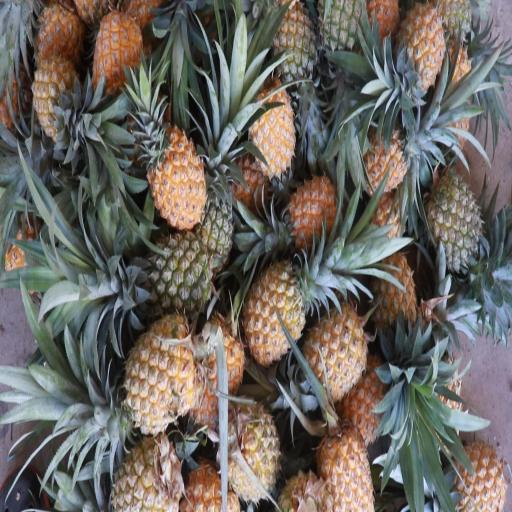------------------------------: (270, 0, 324, 89)
Pineapple - v8 v1: (120, 310, 198, 443), (301, 261, 375, 375), (237, 258, 308, 373), (144, 105, 208, 220), (185, 317, 245, 437), (214, 394, 277, 508), (315, 396, 375, 512), (111, 421, 184, 512), (243, 57, 295, 179), (90, 10, 150, 106), (275, 168, 340, 256), (24, 57, 83, 153), (364, 220, 422, 314), (354, 114, 408, 212), (393, 0, 451, 85), (450, 435, 506, 512), (173, 459, 245, 512)
